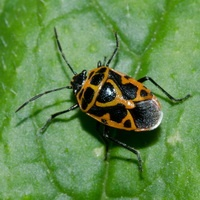insect: (15, 27, 190, 171)
